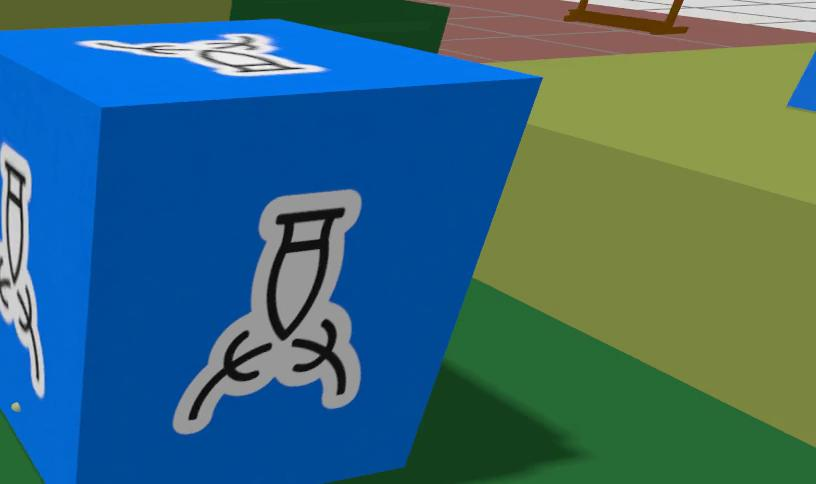KFS_REAL: (0, 20, 540, 484), (173, 190, 361, 433), (0, 143, 42, 397), (78, 34, 325, 75)
